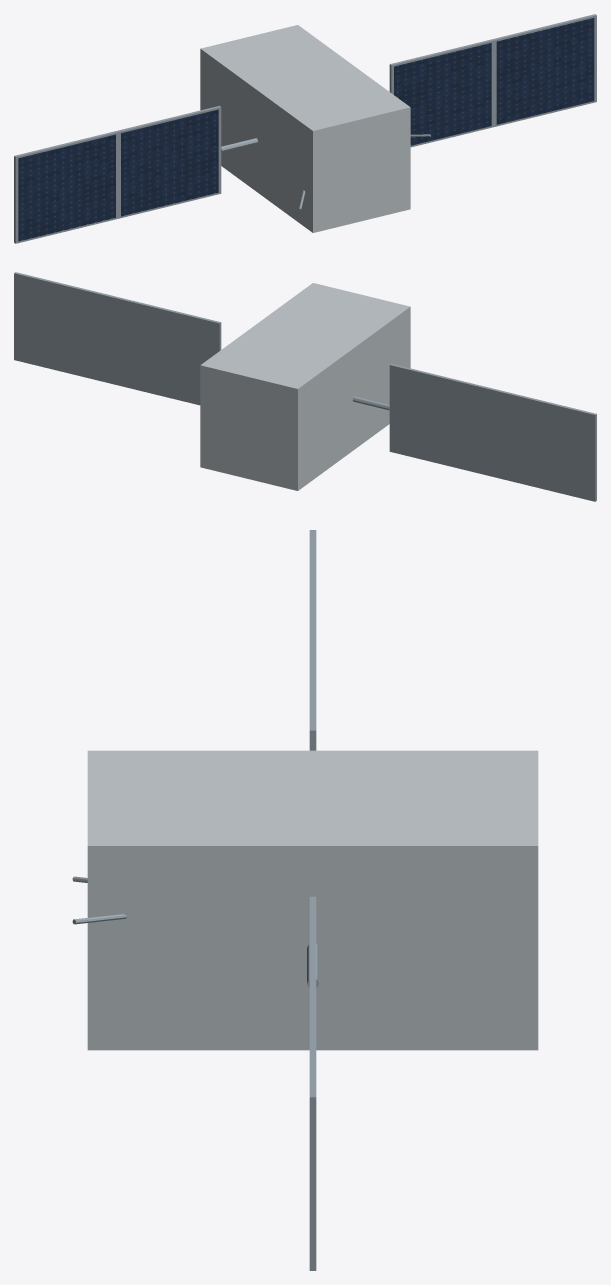
File: ref-swot-54754.glb
3 renders of one model, top to bottom at view 1: azimuth 30°, elevation 25°; view 2: azimuth 150°, elevation 25°; view 3: azimuth 270°, elevation 25°, orthographic. The views are drawn at different scales.
Parts seen in each view (by area): view 1: Photovoltaic laminates (×4), Spacecraft body, Array frame (×4); view 2: Array frame (×4), Spacecraft body; view 3: Spacecraft body, Array frame (×2).
Part boxes in pixels (box(x1,y1,x2,y2)): Photovoltaic laminates (×4): box(18, 18, 594, 241); Spacecraft body: box(200, 25, 410, 232); Array frame (×4): box(14, 14, 596, 243); Array frame (×4): box(14, 272, 596, 501); Spacecraft body: box(200, 283, 410, 490); Spacecraft body: box(87, 750, 538, 1050); Array frame (×2): box(309, 630, 316, 1270).
Size of the model in its own units: 14.9 by 2.5 by 5.17.
3 materials, 1 textured.
